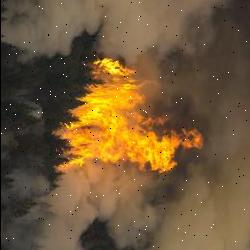fire: (57, 51, 207, 184)
